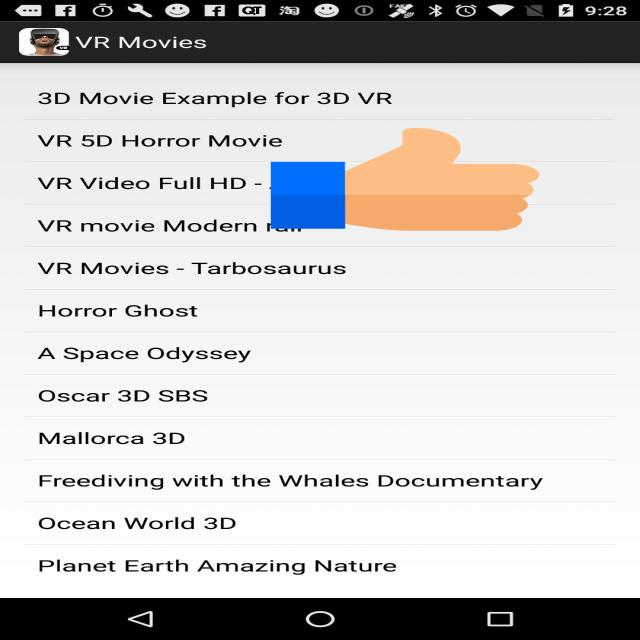privacy zuckering: (271, 125, 539, 234)
